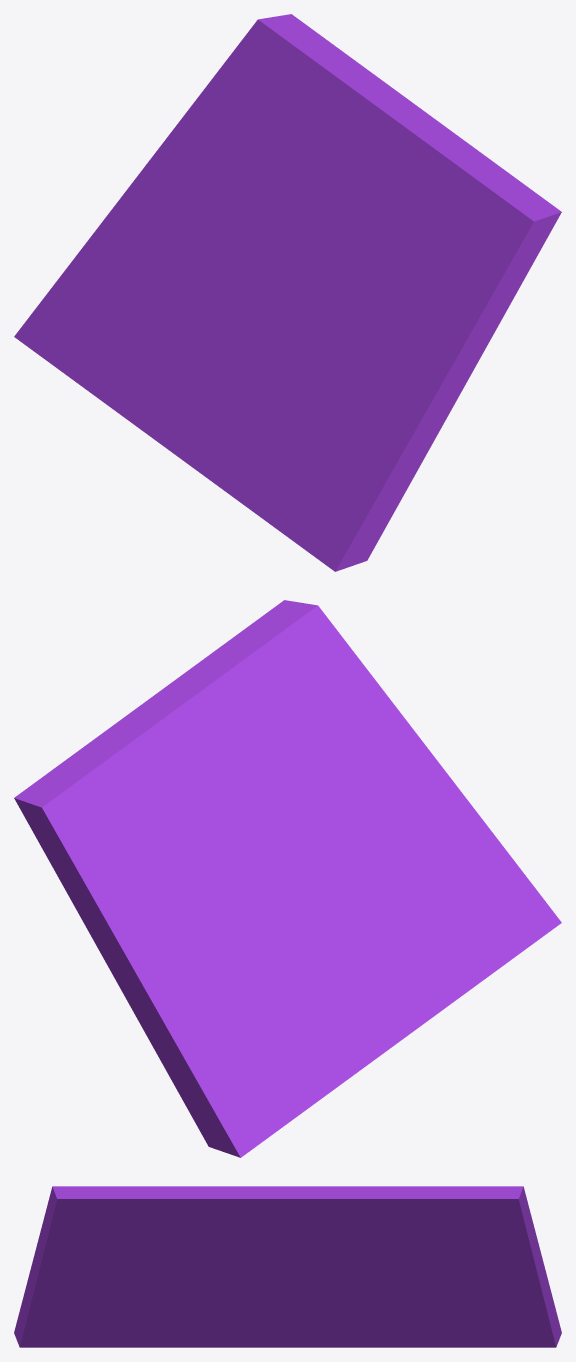
Rendered from Window_115.fbx.
The picture shows the model from 3 angles, top to bottom: view 1: azimuth 30°, elevation 25°; view 2: azimuth 150°, elevation 25°; view 3: azimuth 270°, elevation 25°; orthographic projection. The views are drawn at different scales.
Parts seen in each view (by area): view 1: Window_115; view 2: Window_115; view 3: Window_115.
Part boxes in pixels (x1,y1,x2,y2): Window_115: (14,14,561,571); Window_115: (14,600,561,1157); Window_115: (14,1186,561,1347).
Bounding box in the file's own units: 720 × 763 × 1588.
